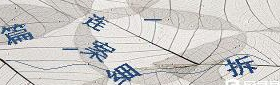chinese: (224, 55, 261, 81), (3, 15, 30, 44), (84, 40, 115, 65), (104, 67, 136, 85), (84, 11, 107, 31)
